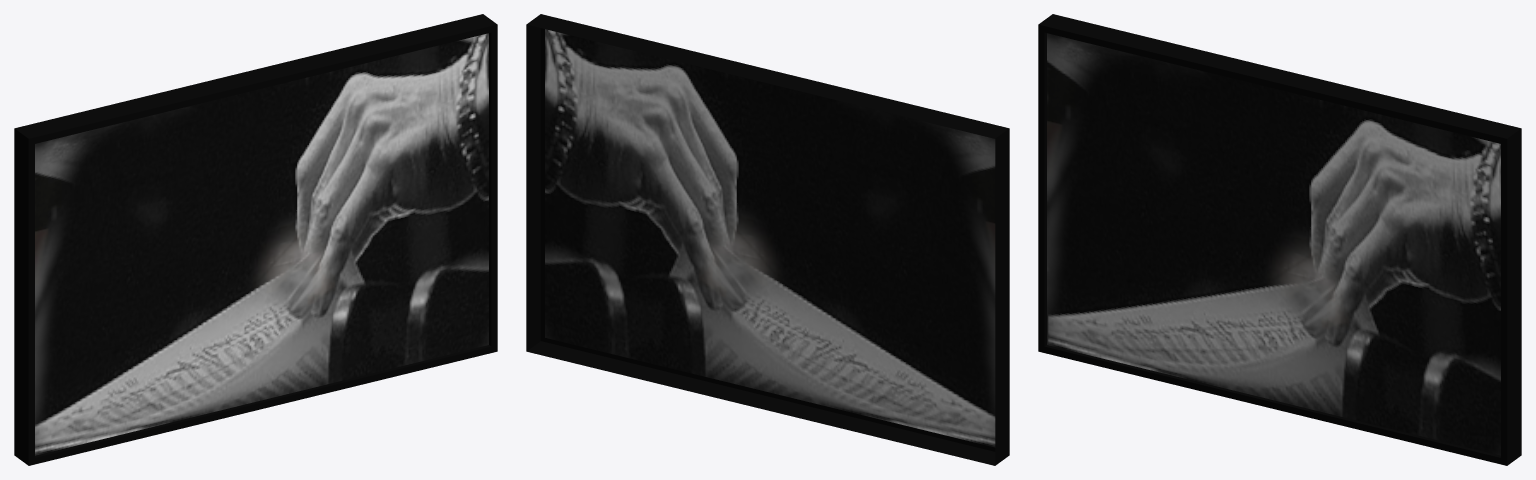
The model's file is CR_Painting02.fbx.
3 views of the same model, side by side, from view 1: azimuth 30°, elevation 25°; view 2: azimuth 150°, elevation 25°; view 3: azimuth 330°, elevation 25° (orthographic).
Visible parts, largest first — view 1: CR_Painting02; view 2: CR_Painting02; view 3: CR_Painting02.
Boxes of the visible parts, x1,y1,x2,y2 form: CR_Painting02: [14, 14, 497, 465]; CR_Painting02: [526, 14, 1009, 465]; CR_Painting02: [1038, 14, 1521, 465].
Size of the model in its own units: 1.5 by 1 by 0.08.
